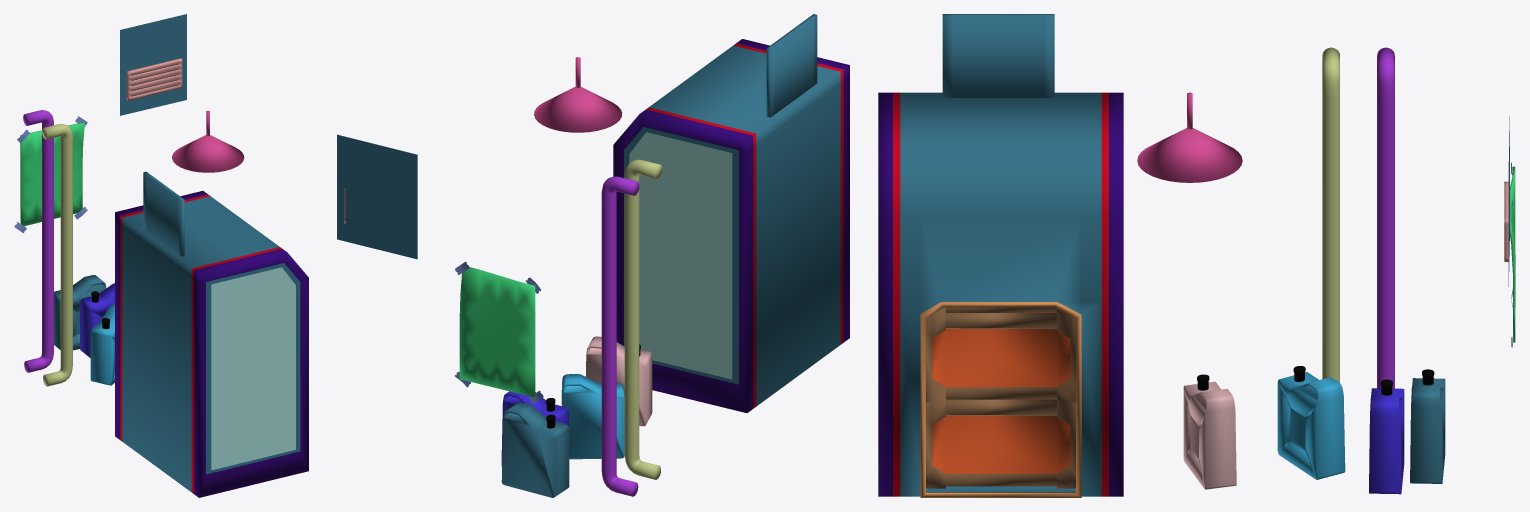
Rendered from schowek_lp.fbx.
3 renders of one model, left to right at view 1: azimuth 30°, elevation 25°; view 2: azimuth 150°, elevation 25°; view 3: azimuth 270°, elevation 25°, orthographic. The views are drawn at different scales.
Visible parts, largest first — view 1: schowek.002; view 2: schowek.002; view 3: schowek.002.
Part boxes in pixels (bbox=[...]): schowek.002: bbox=[14, 14, 308, 497]; schowek.002: bbox=[337, 14, 849, 497]; schowek.002: bbox=[878, 14, 1515, 497].
Bounding box in the file's own units: 171 × 226 × 317.
